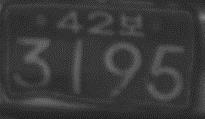1: (62, 38, 94, 95)
2: (86, 9, 115, 36)
3: (12, 35, 51, 89)
4: (55, 8, 82, 34)
5: (145, 44, 185, 103)
9: (104, 40, 142, 98)
보: (118, 10, 144, 37)
